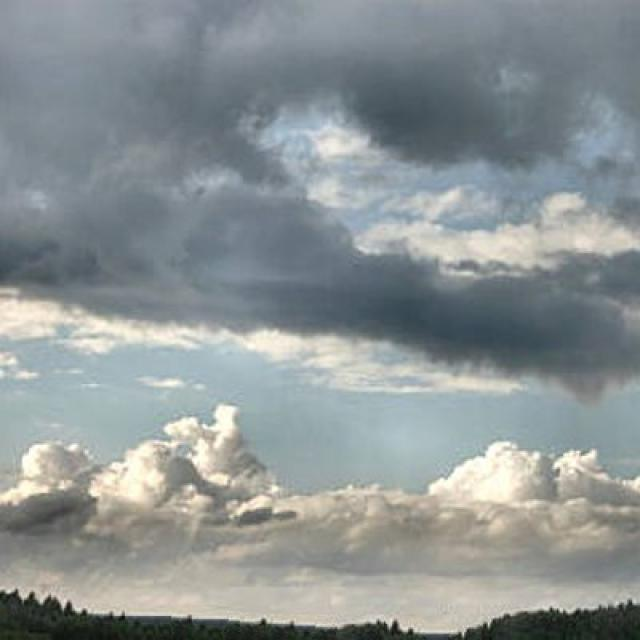Cc: (10, 28, 640, 553)
